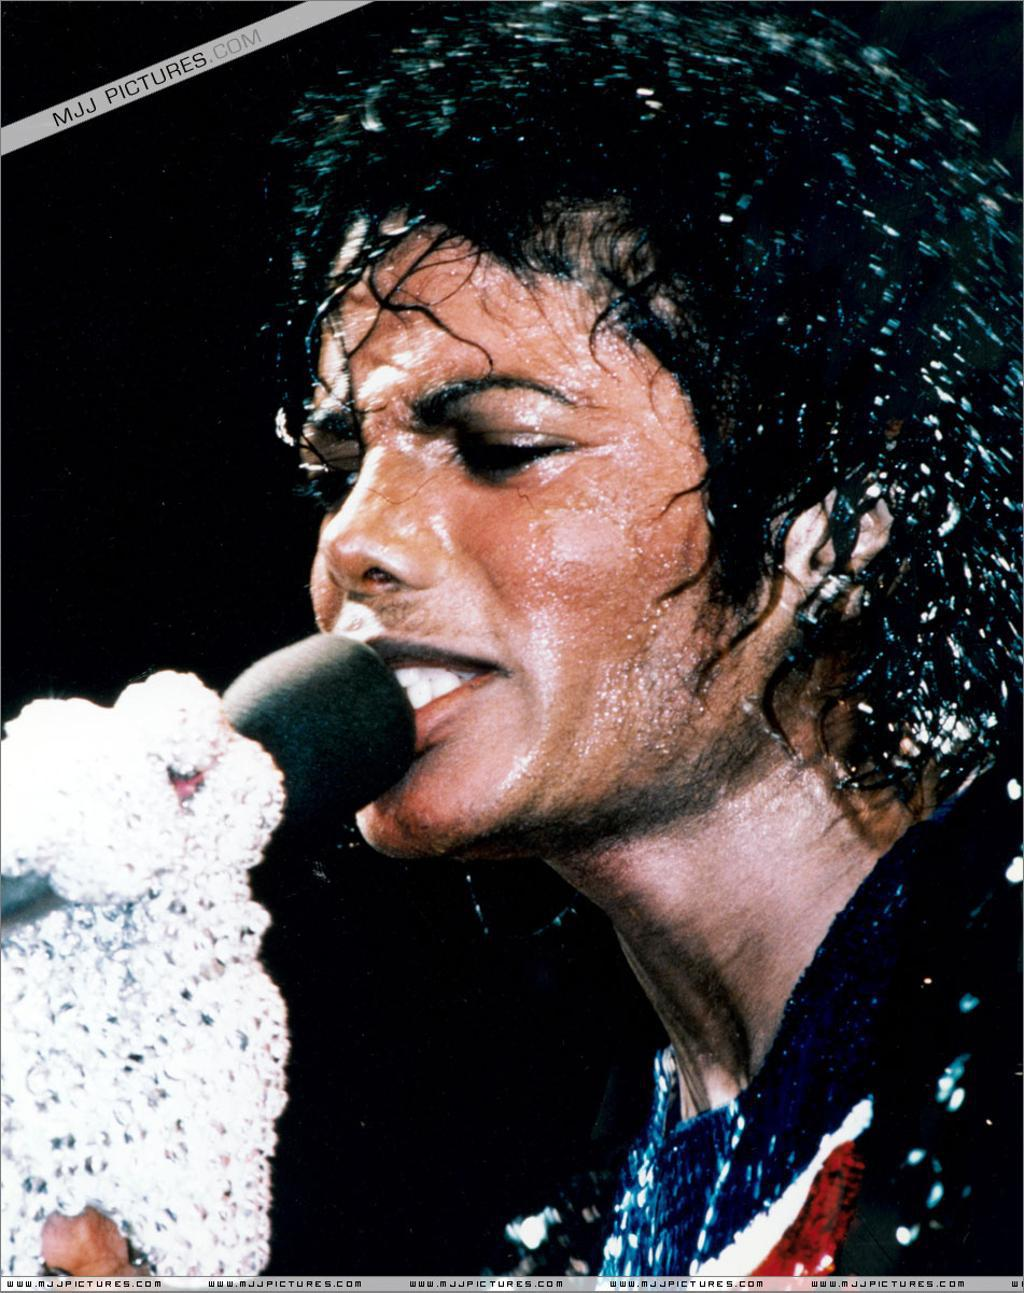face: (314, 198, 786, 861)
